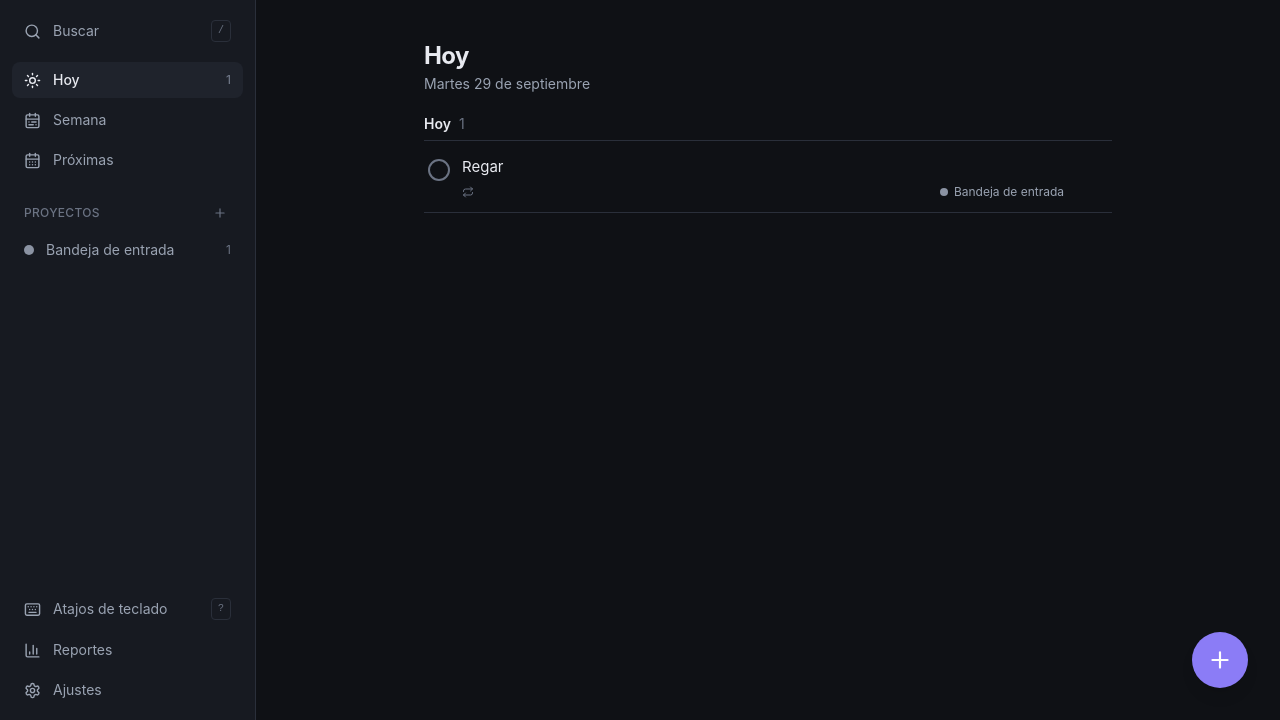
Test case: gestos en las tareas › a una recurrente no se le ofrece "Sin fecha"
This screenshot has width=1280, height=720.
Press the mouse on the list item "Regar": (768, 179) [424,145,1112,213]
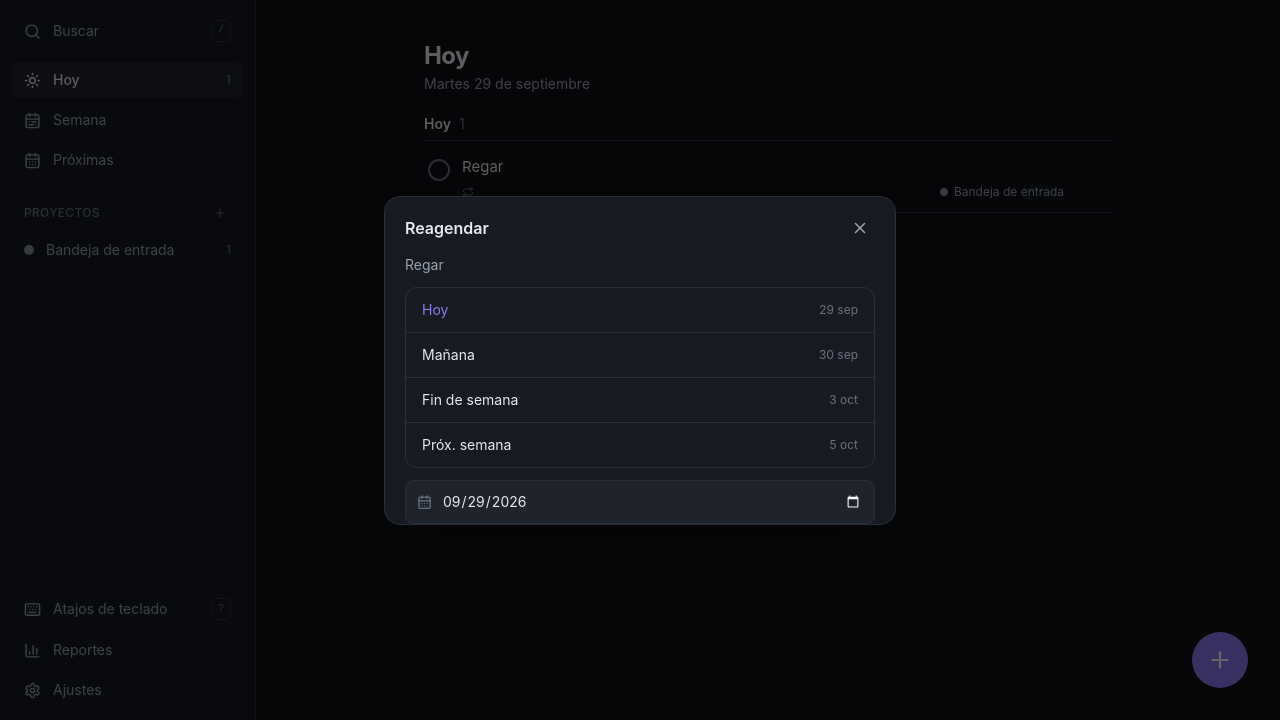
Now the button "Mañana 30 sep" is shown, box [406,332,874,376]
